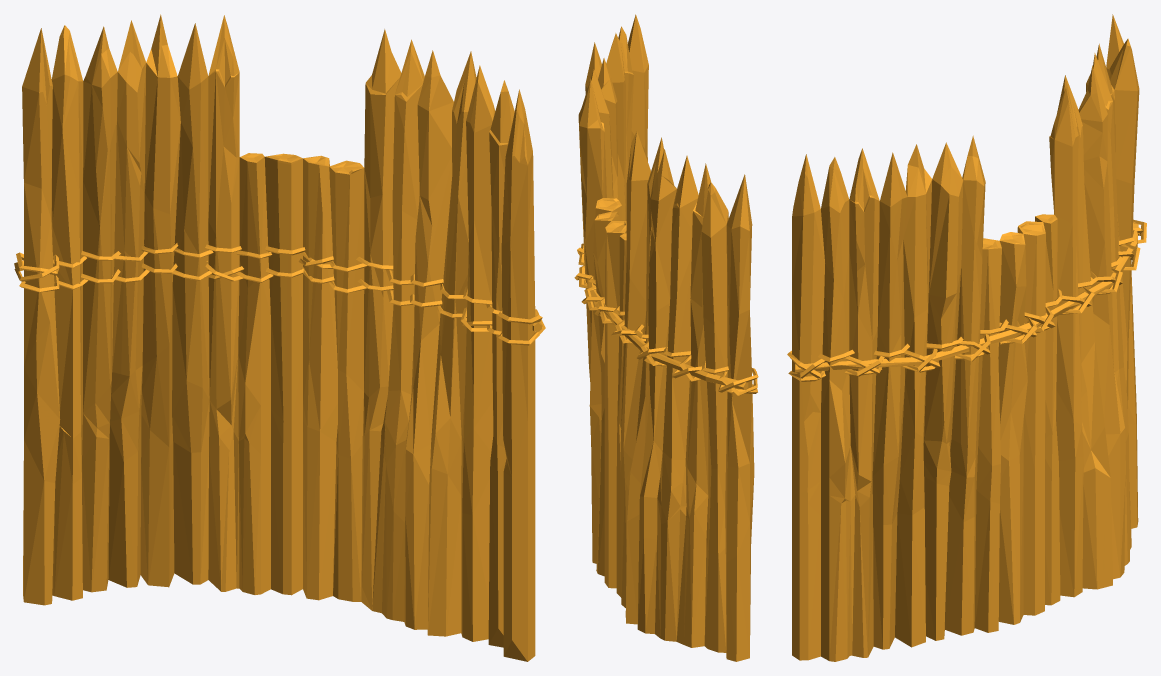
File: SM_Palisade_Corner_Round_3x3_Window_Concave_A.fbx
The picture shows the model from 3 angles, left to right: view 1: azimuth 30°, elevation 25°; view 2: azimuth 150°, elevation 25°; view 3: azimuth 270°, elevation 25°; orthographic projection. The views are drawn at different scales.
Parts seen in each view (by area): view 1: palisade-corner-round-3x3-window-concave-a; view 2: palisade-corner-round-3x3-window-concave-a; view 3: palisade-corner-round-3x3-window-concave-a.
Part boxes in pixels (x1,y1,x2,y2): palisade-corner-round-3x3-window-concave-a: (14, 14, 545, 661); palisade-corner-round-3x3-window-concave-a: (574, 14, 758, 661); palisade-corner-round-3x3-window-concave-a: (787, 14, 1146, 661).
Size of the model in its own units: 4.32 by 6.85 by 4.39.
